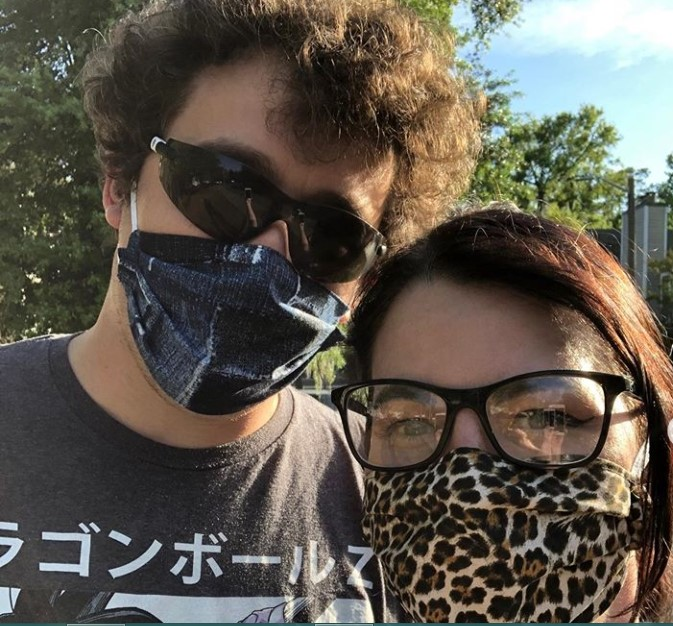face_with_mask: (339, 217, 660, 622), (99, 15, 404, 417)
